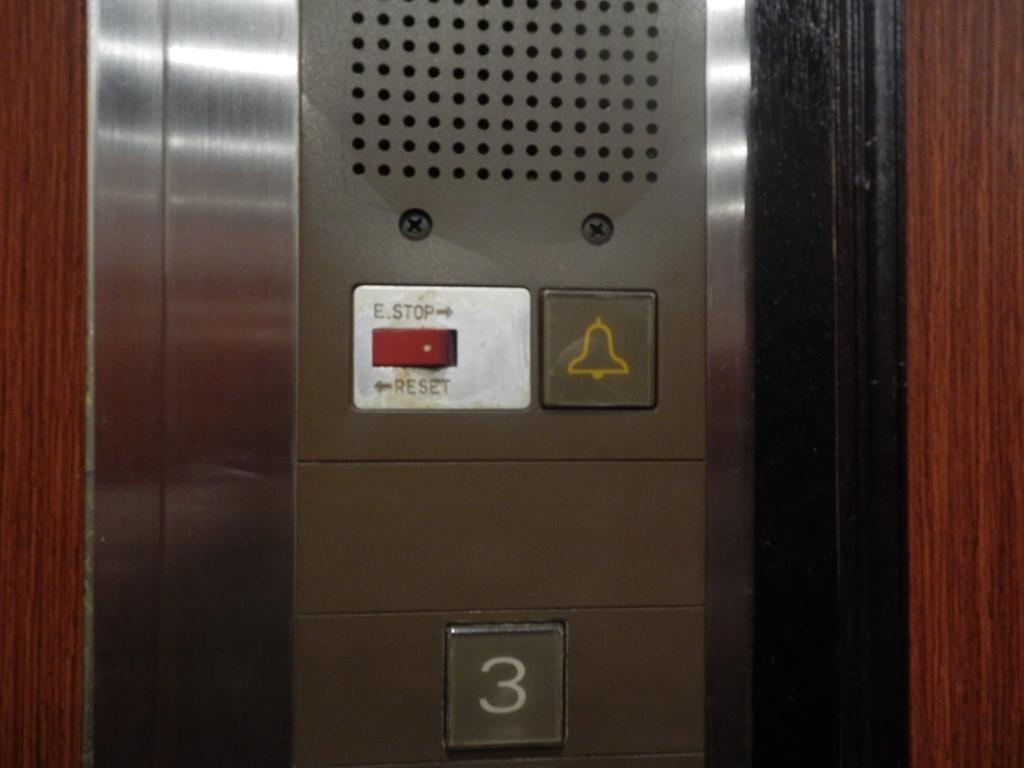3: (437, 620, 568, 753)
alarm: (535, 284, 659, 413)
switch: (347, 281, 535, 413)
